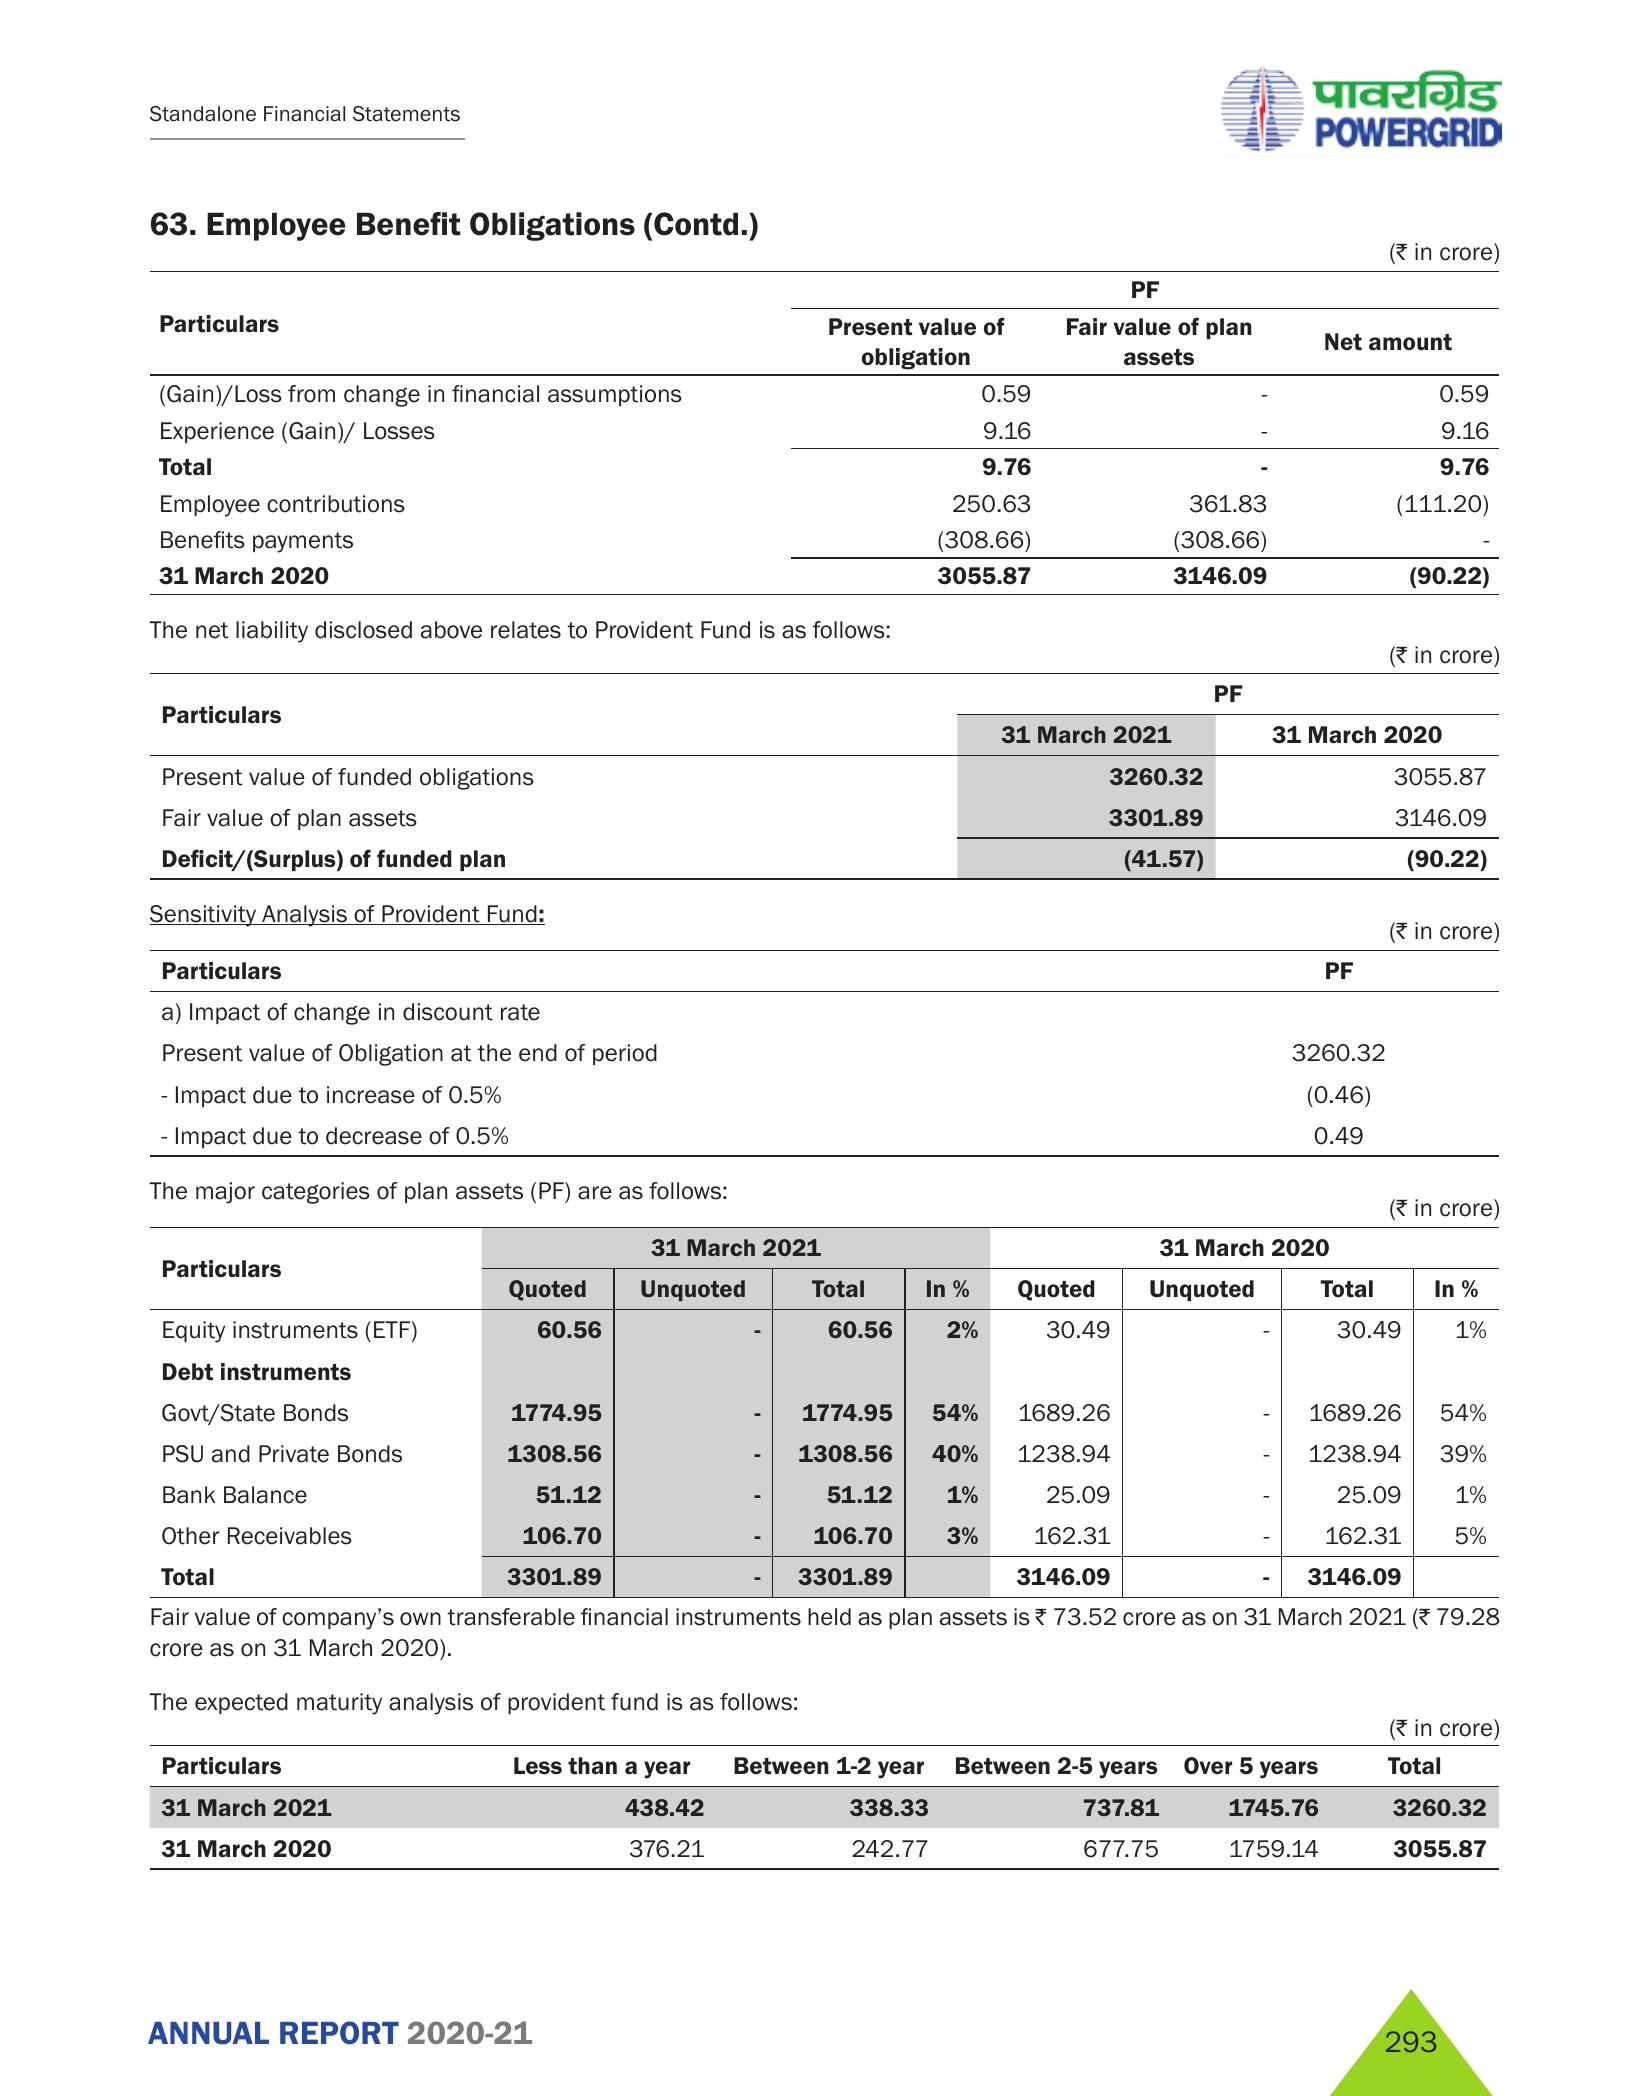Footer: (0, 1956, 1650, 2096)
Header: (0, 0, 1650, 163)
Table: (126, 1218, 1524, 1603), (117, 271, 1516, 597), (122, 944, 1521, 1164), (111, 665, 1516, 878), (105, 1749, 1524, 1866)
